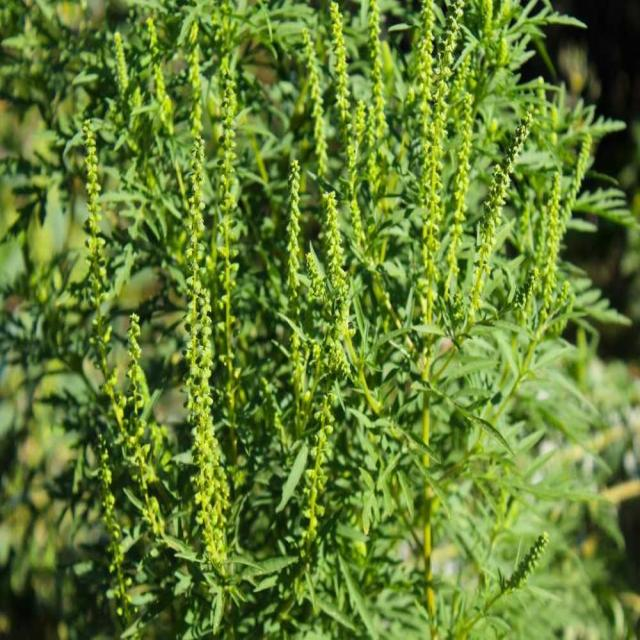ambrosia: (386, 9, 604, 336), (47, 95, 175, 613), (154, 70, 253, 589), (273, 143, 360, 549), (475, 512, 557, 621)
